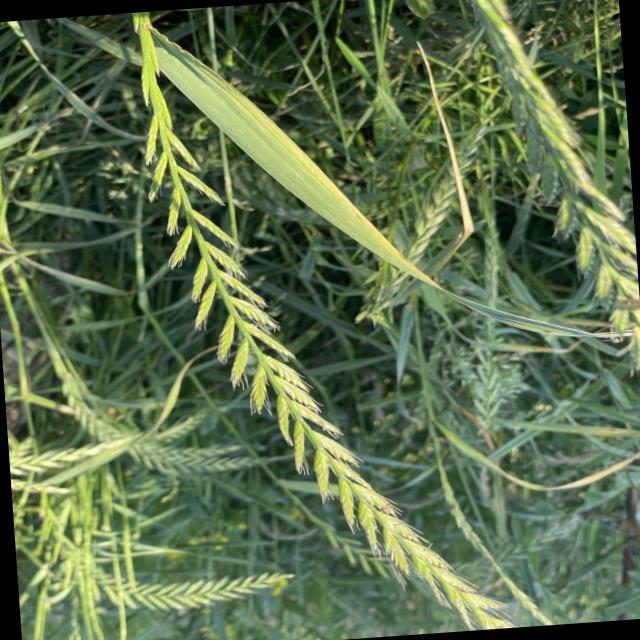Lolium: (120, 0, 528, 640), (470, 0, 640, 378), (367, 40, 558, 309), (48, 490, 293, 626)
